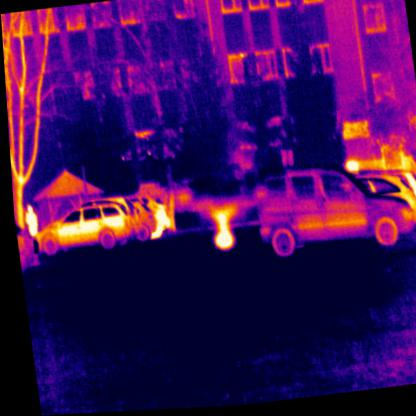drone: (169, 179, 270, 257)
human: (20, 203, 36, 236)
vehicle: (248, 159, 415, 263), (30, 202, 129, 257)
